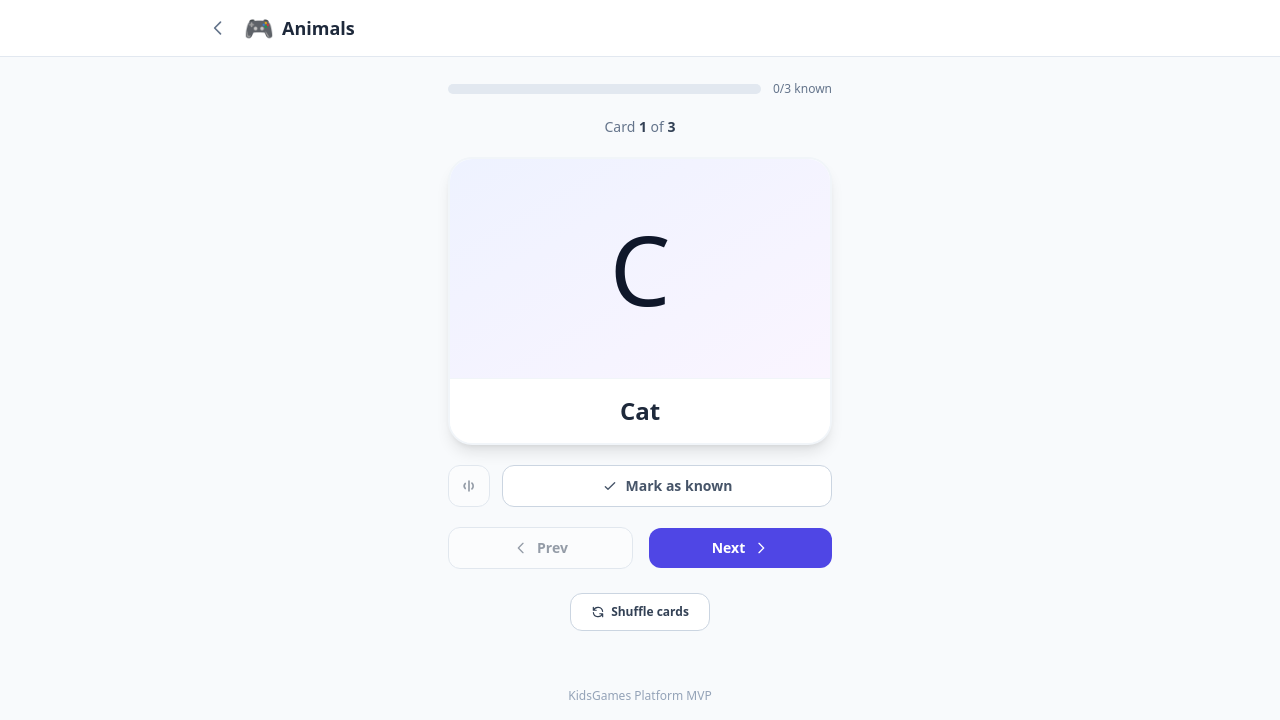
Test: FlashcardGamePage › toggles known state — changes button label
This screenshot has width=1280, height=720.
Check: the text "Cat" is shown, box [620,394,660,427]
Click the button "Mark as known": (667, 486) [502,465,832,507]
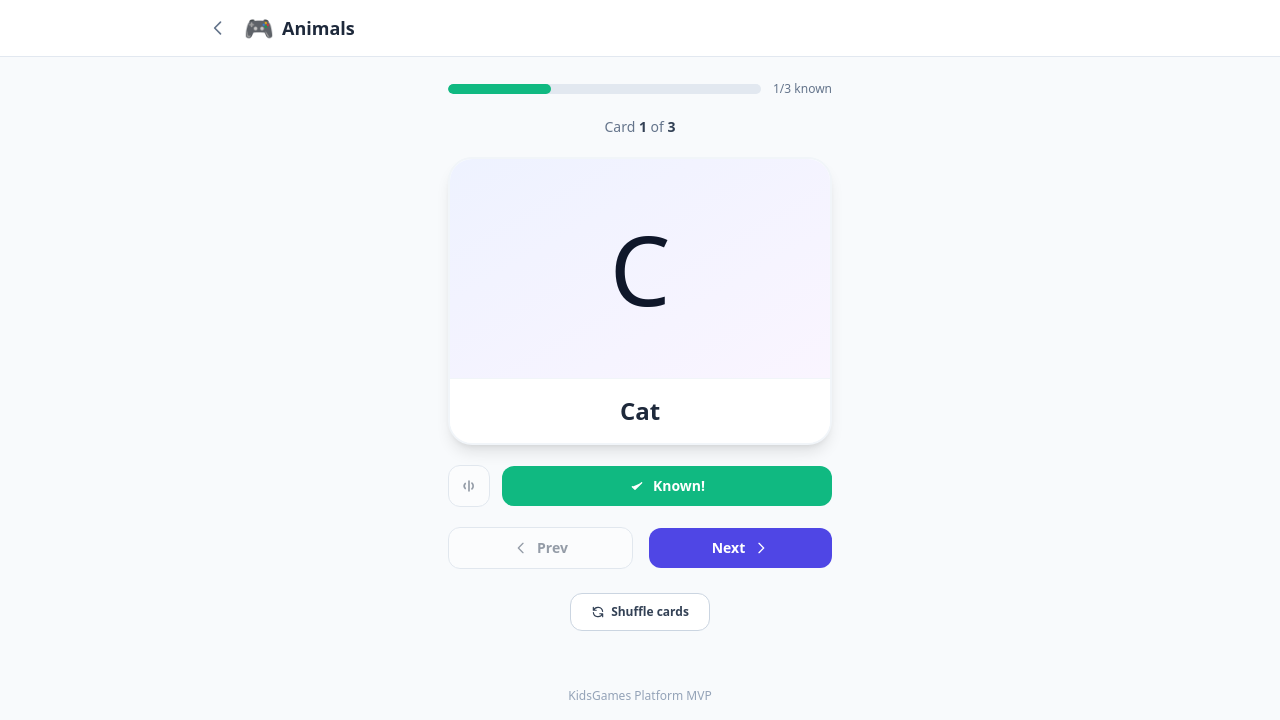
Check: the button "Known!" is shown, box [502,466,832,506]
